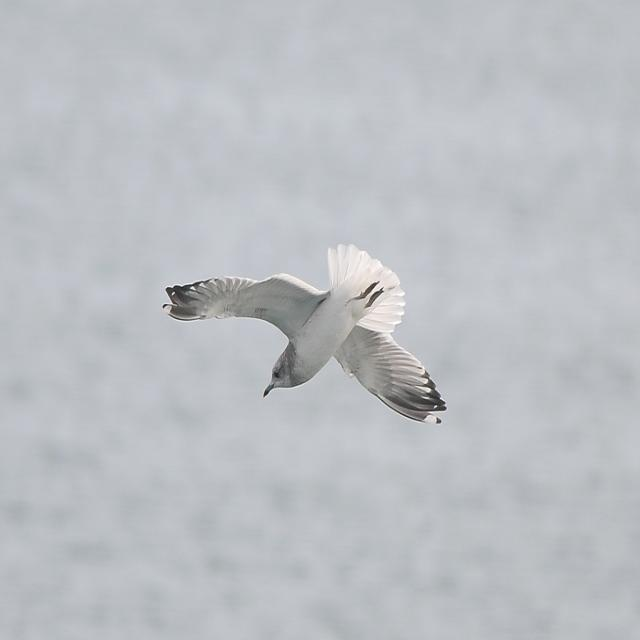bird: (153, 240, 455, 422)
